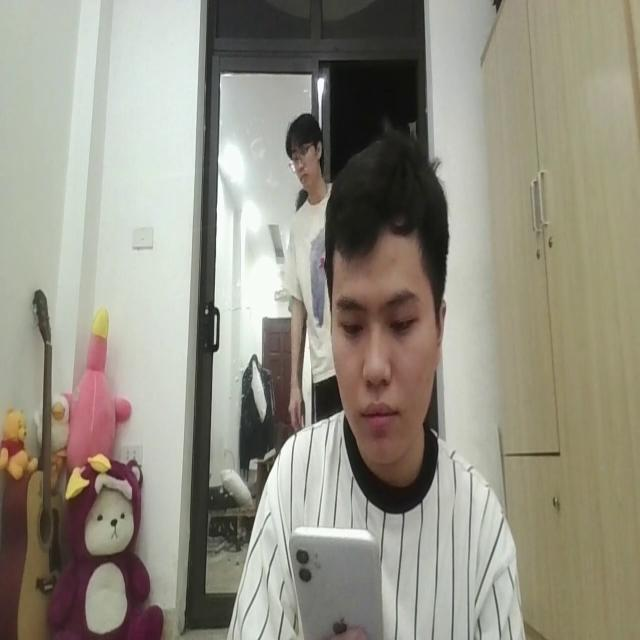extra_person: (284, 111, 342, 420)
phone: (287, 517, 386, 640)
student: (225, 120, 520, 640)
